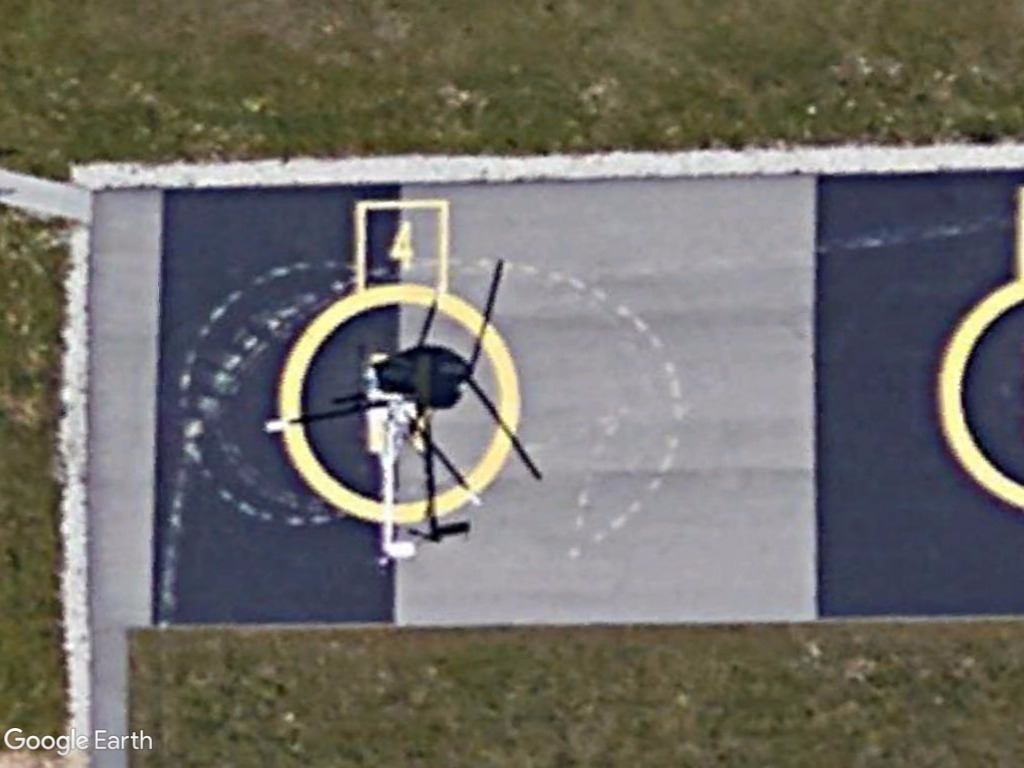helicopter: (259, 311, 481, 567)
